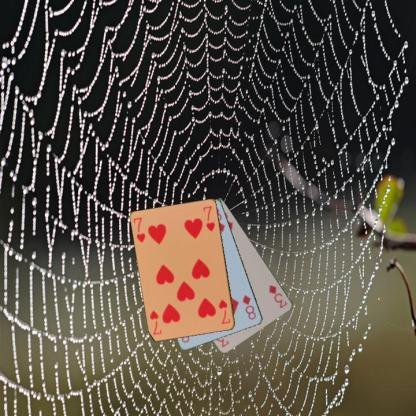3d: (266, 282, 288, 310)
7h: (131, 215, 147, 244), (216, 297, 232, 325)
8d: (240, 292, 257, 321)
